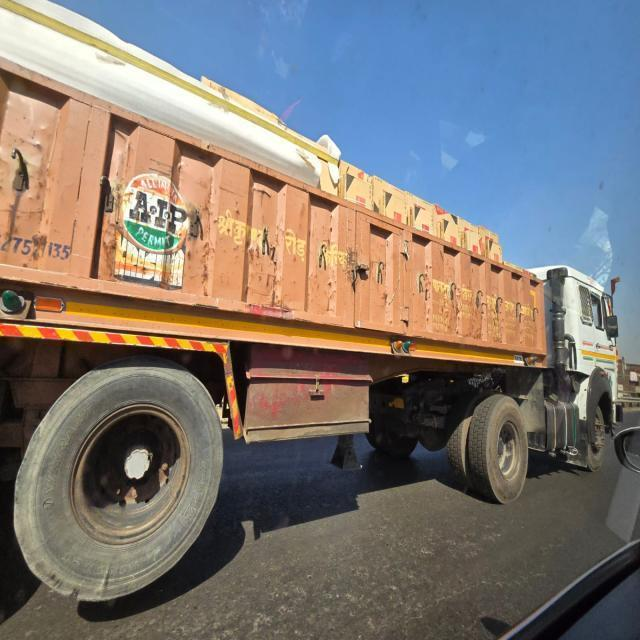uncovered: (7, 0, 620, 353)
